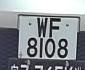0: (44, 38, 57, 60)
1: (38, 37, 45, 60)
8: (56, 37, 70, 60), (26, 36, 39, 60)
F: (49, 16, 64, 38)
W: (36, 16, 49, 39)
